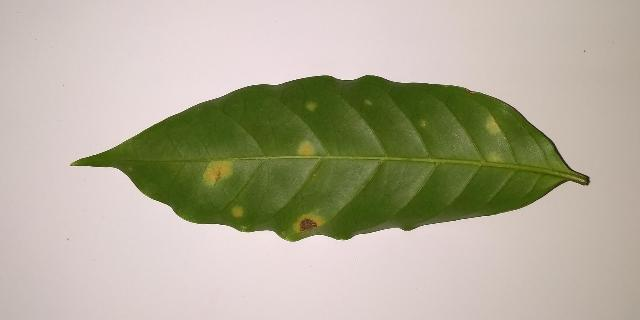miner: (202, 158, 234, 186), (292, 212, 326, 235), (297, 142, 315, 158), (487, 118, 501, 133), (489, 152, 502, 161), (232, 207, 243, 217), (306, 102, 316, 111)
